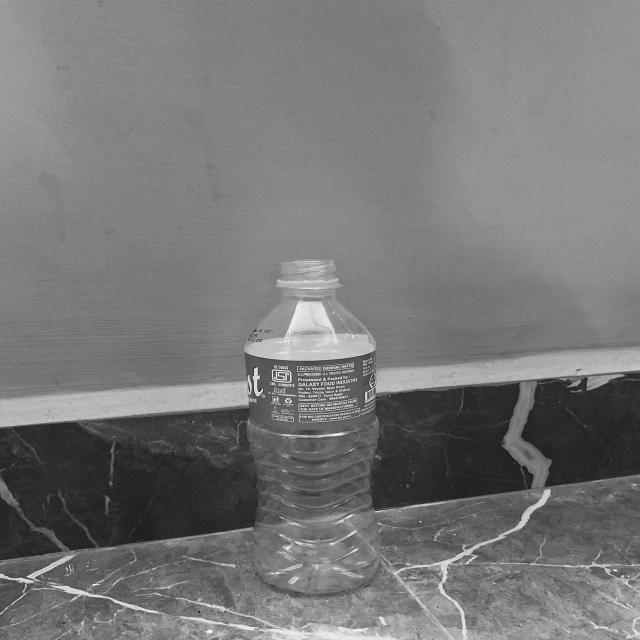open-cap: (280, 254, 342, 294)
